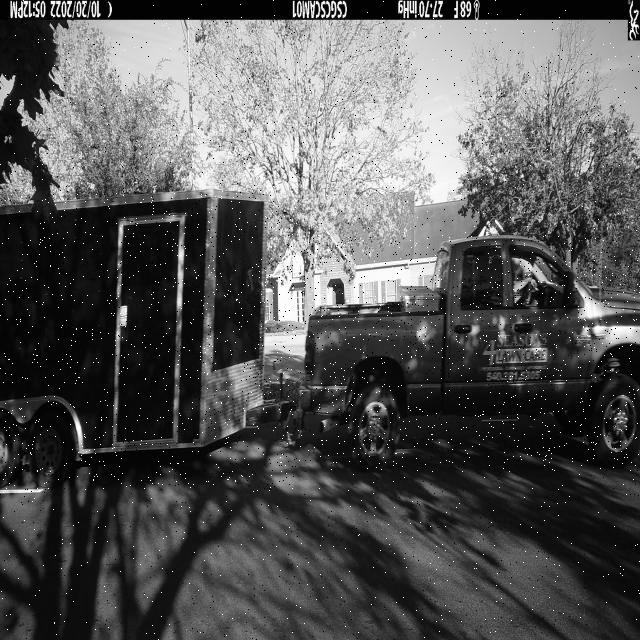Pickup: (304, 236, 640, 472)
Trailer: (0, 190, 297, 490)
